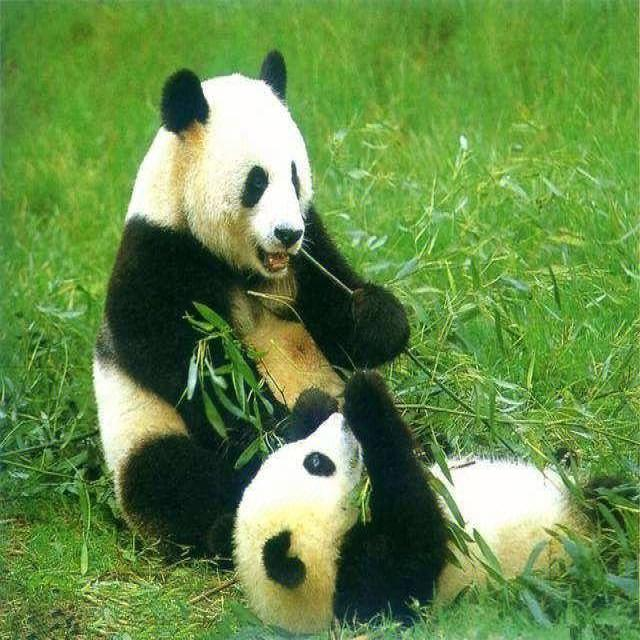panda: (84, 48, 639, 640)
